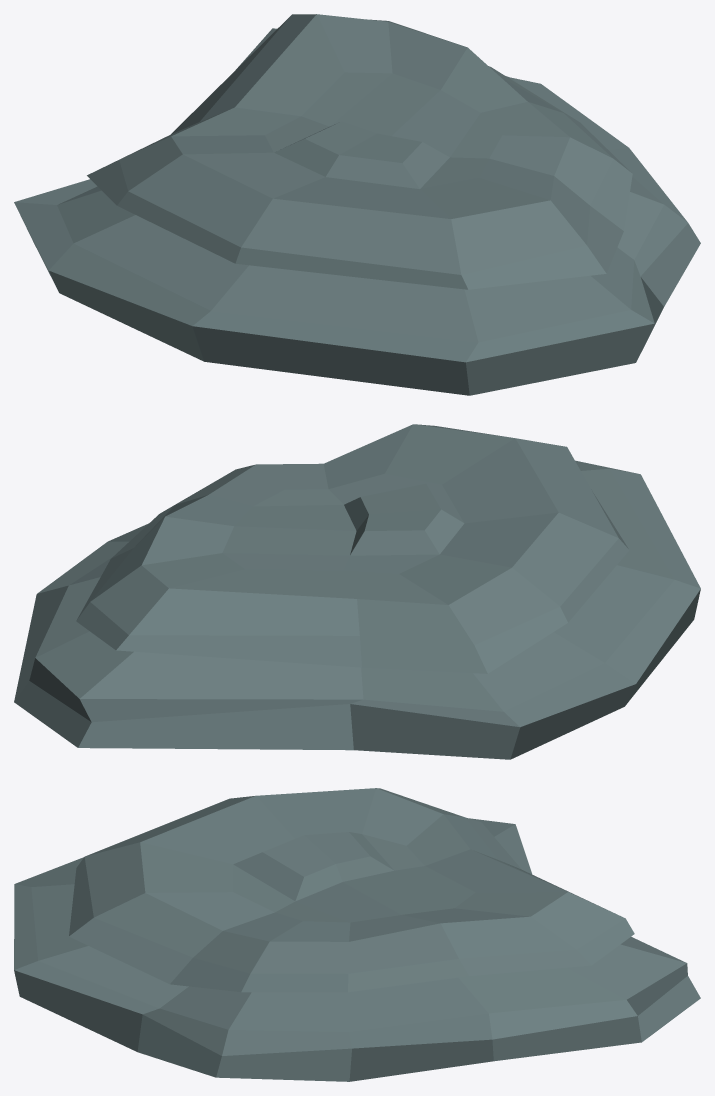
File: Stone_1.glb
The picture shows the model from 3 angles, top to bottom: view 1: azimuth 30°, elevation 25°; view 2: azimuth 150°, elevation 25°; view 3: azimuth 270°, elevation 25°; orthographic projection. The views are drawn at different scales.
Visible parts, largest first — view 1: Stone.001; view 2: Stone.001; view 3: Stone.001.
Part boxes in pixels (left/top/right/bottom): Stone.001: left=14, top=14, right=700, bottom=395; Stone.001: left=14, top=424, right=700, bottom=759; Stone.001: left=14, top=788, right=700, bottom=1081.
Bounding box in the file's own units: 2.29 × 0.5281 × 2.73.
